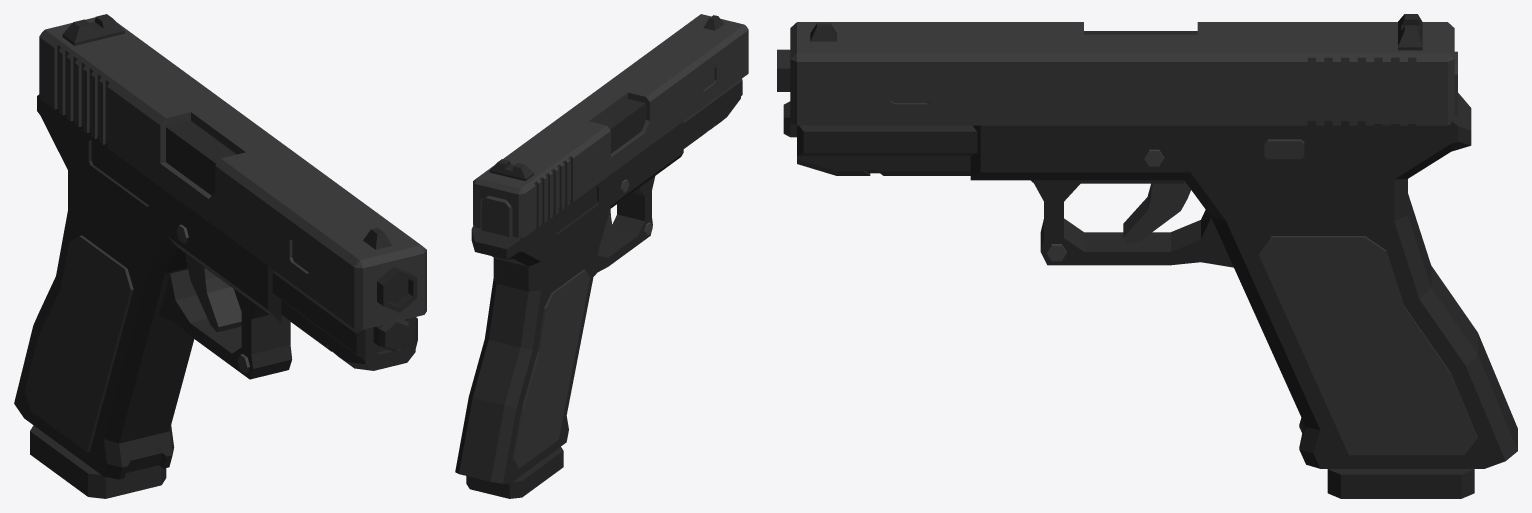
File: Pistol_B.fbx
3 renders of one model, left to right at view 1: azimuth 30°, elevation 25°; view 2: azimuth 150°, elevation 25°; view 3: azimuth 270°, elevation 25°, orthographic. The views are drawn at different scales.
Visible parts, largest first — view 1: Pistol_B_Receiver, Pistol_B_BarrelGuard, Pistol_B_Mag, Pistol_B_Trigger, Pistol_B_Barrel; view 2: Pistol_B_Receiver, Pistol_B_BarrelGuard, Pistol_B_Mag; view 3: Pistol_B_Receiver, Pistol_B_BarrelGuard, Pistol_B_Mag, Pistol_B_Trigger.
Boxes of the visible parts, x1=… form: Pistol_B_Receiver: x1=14, y1=94, x2=417, y2=479; Pistol_B_BarrelGuard: x1=39, y1=14, x2=426, y2=329; Pistol_B_Mag: x1=30, y1=425, x2=166, y2=498; Pistol_B_Trigger: x1=185, y1=253, x2=241, y2=332; Pistol_B_Barrel: x1=377, y1=267, x2=417, y2=312; Pistol_B_Receiver: x1=455, y1=79, x2=742, y2=483; Pistol_B_BarrelGuard: x1=473, y1=14, x2=748, y2=237; Pistol_B_Mag: x1=466, y1=447, x2=563, y2=498; Pistol_B_Receiver: x1=783, y1=93, x2=1517, y2=468; Pistol_B_BarrelGuard: x1=790, y1=14, x2=1457, y2=125; Pistol_B_Mag: x1=1327, y1=469, x2=1474, y2=498; Pistol_B_Trigger: x1=1123, y1=181, x2=1190, y2=243.
Size of the model in its own units: 0.035 by 0.1887 by 0.2775.
